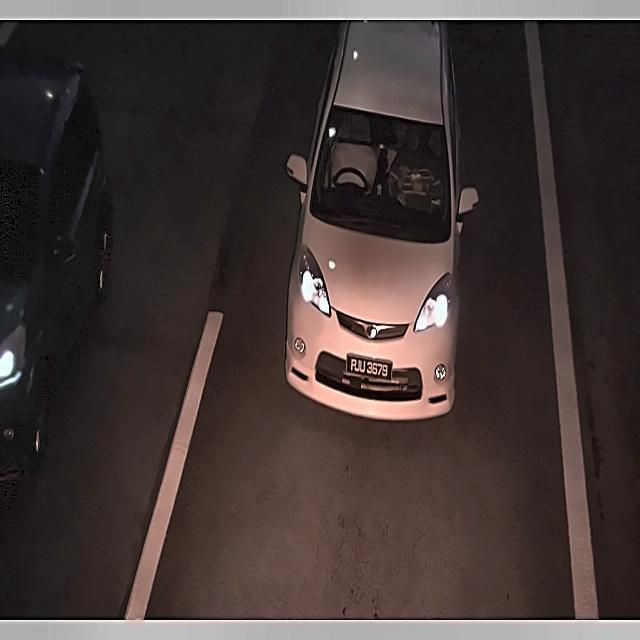car: (341, 348, 398, 388)
